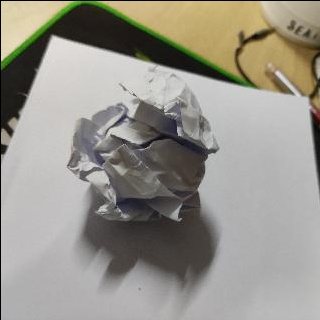8/可回收垃圾/纸: (68, 63, 221, 225)
